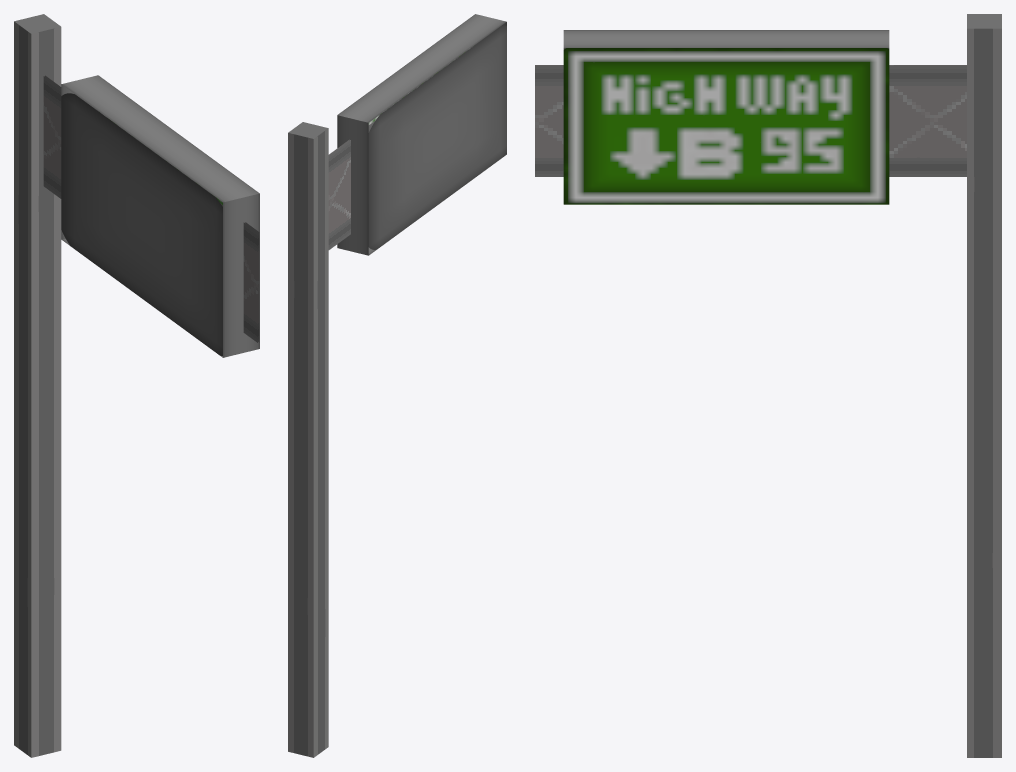
File: BGN_HWAY IN.fbx
3 views of the same model, side by side, from view 1: azimuth 30°, elevation 25°; view 2: azimuth 150°, elevation 25°; view 3: azimuth 270°, elevation 25° (orthographic). The views are drawn at different scales.
Parts seen in each view (by area): view 1: BGN_HWAY IN; view 2: BGN_HWAY IN; view 3: BGN_HWAY IN.
Part boxes in pixels (x1,y1,x2,y2): BGN_HWAY IN: (14,14,259,757); BGN_HWAY IN: (288,14,506,757); BGN_HWAY IN: (535,14,1001,757).
Size of the model in its own units: 37.94 by 683 by 396.
